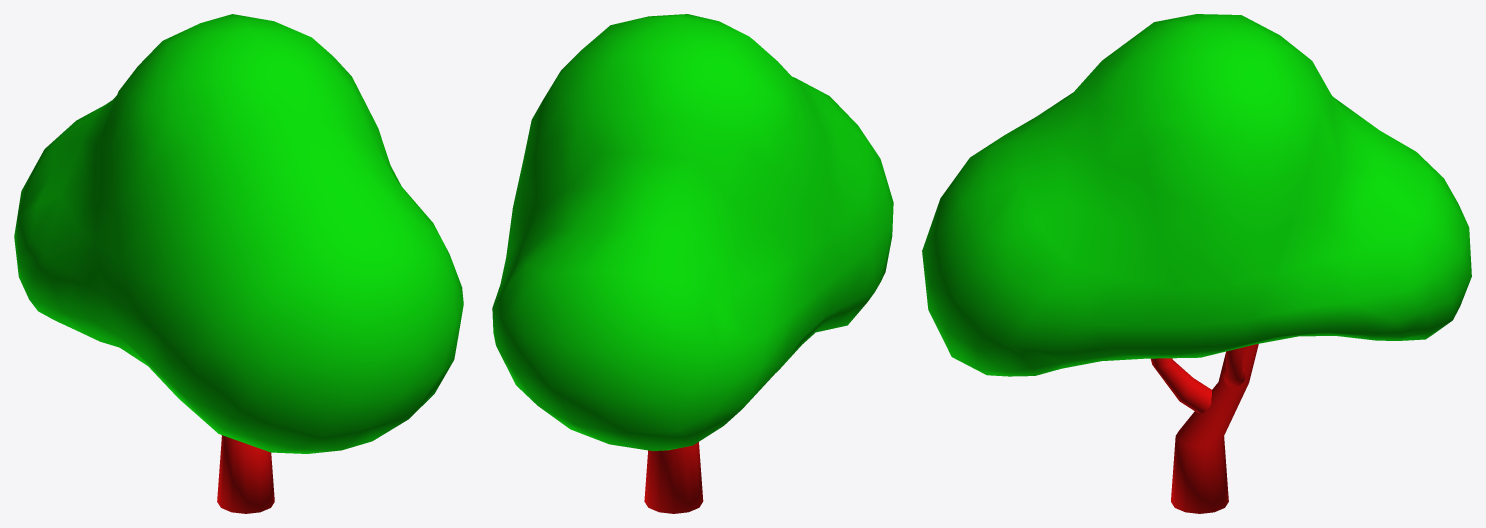
The model's file is kust.fbx.
3 views of the same model, side by side, from view 1: azimuth 30°, elevation 25°; view 2: azimuth 150°, elevation 25°; view 3: azimuth 270°, elevation 25° (orthographic).
Visible parts, largest first — view 1: Kust; view 2: Kust; view 3: Kust.
Boxes of the visible parts, <box> form: Kust: <box>14,14,463,513</box>; Kust: <box>492,14,893,513</box>; Kust: <box>922,14,1471,513</box>.
Bounding box in the file's own units: 204 × 318 × 333.
